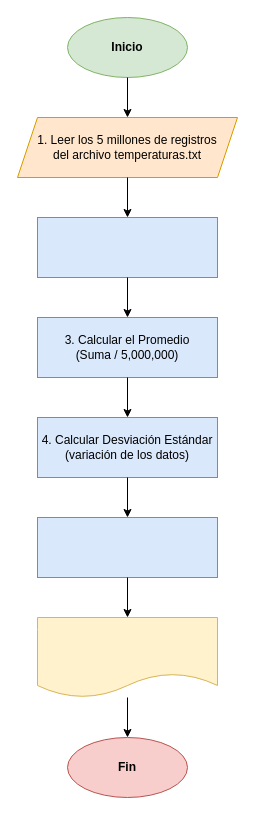
Some shapes in this 255 by 815 pixel diagram are drawn without their labels. The box of each missing label's shape, as (x1, y1, x2, y2) in pixels:
2. Calcular en un solo paso: Máximo, Mínimo y Suma total: (36, 216, 218, 278)
5. Volver a recorrer los datos para contar mayores al Promedio: (36, 516, 218, 578)
6. Mostrar los 5 resultados finales en la consola: (36, 616, 218, 698)
